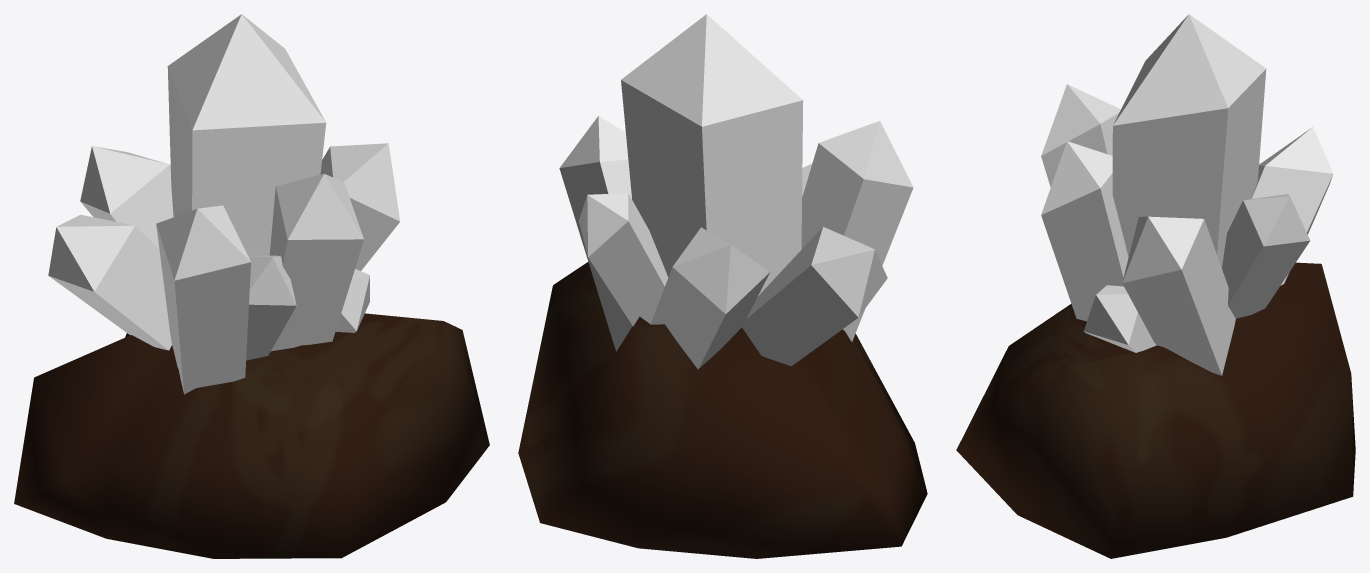
File: minerales.fbx
3 views of the same model, side by side, from view 1: azimuth 30°, elevation 25°; view 2: azimuth 150°, elevation 25°; view 3: azimuth 270°, elevation 25° (orthographic). The views are drawn at different scales.
Parts seen in each view (by area): view 1: Montaña; view 2: Montaña; view 3: Montaña.
Part boxes in pixels (x1,y1,x2,y2): Montaña: (14,14,489,558); Montaña: (518,14,927,558); Montaña: (956,14,1355,558).
Size of the model in its own units: 253 by 263 by 214.
